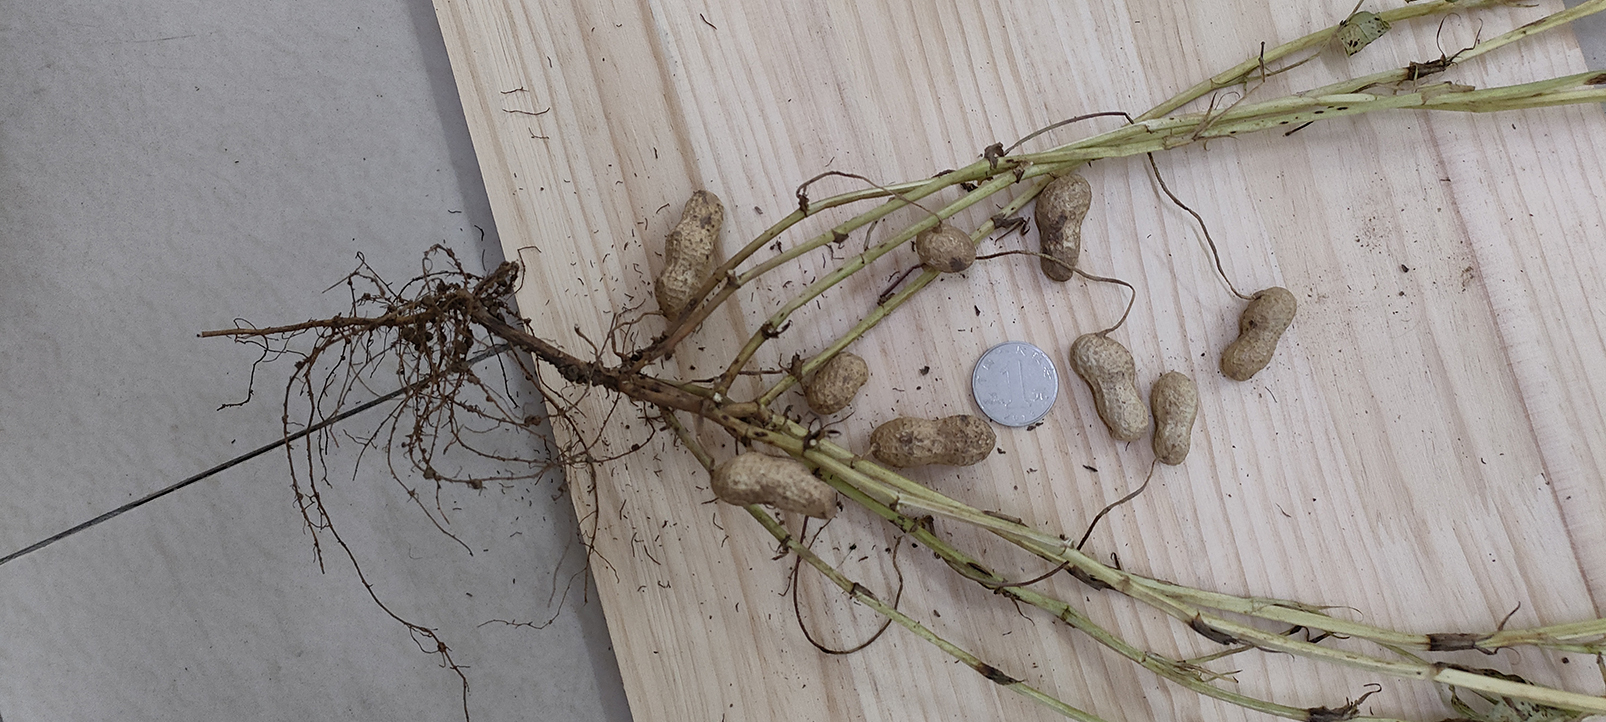h: (656, 192, 723, 321), (1071, 334, 1149, 440), (714, 451, 841, 508), (1221, 289, 1296, 380), (872, 417, 997, 467), (1151, 370, 1199, 464), (809, 352, 870, 411), (916, 224, 977, 271)
l: (1036, 174, 1094, 280)
